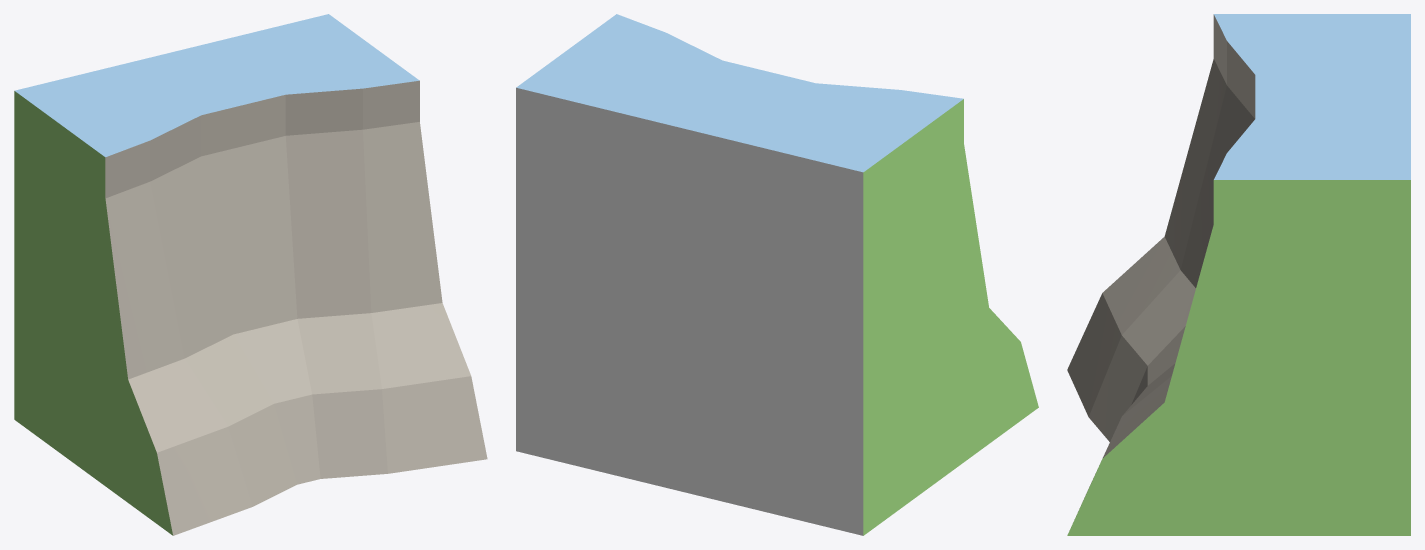
The model's file is Wall_Straight_Deformed_Concave_2x2_Base.glb.
The picture shows the model from 3 angles, left to right: view 1: azimuth 30°, elevation 25°; view 2: azimuth 150°, elevation 25°; view 3: azimuth 270°, elevation 25°; orthographic projection. The views are drawn at different scales.
Visible parts, largest first — view 1: Wall_Straight_Deformed_Concave_2x2_Base; view 2: Wall_Straight_Deformed_Concave_2x2_Base; view 3: Wall_Straight_Deformed_Concave_2x2_Base.
Boxes of the visible parts, box(x1,y1,x2,y2) form: Wall_Straight_Deformed_Concave_2x2_Base: box(14, 14, 487, 535); Wall_Straight_Deformed_Concave_2x2_Base: box(516, 14, 1038, 535); Wall_Straight_Deformed_Concave_2x2_Base: box(1067, 14, 1410, 535).
Bounding box in the file's own units: 200 × 200 × 175.
